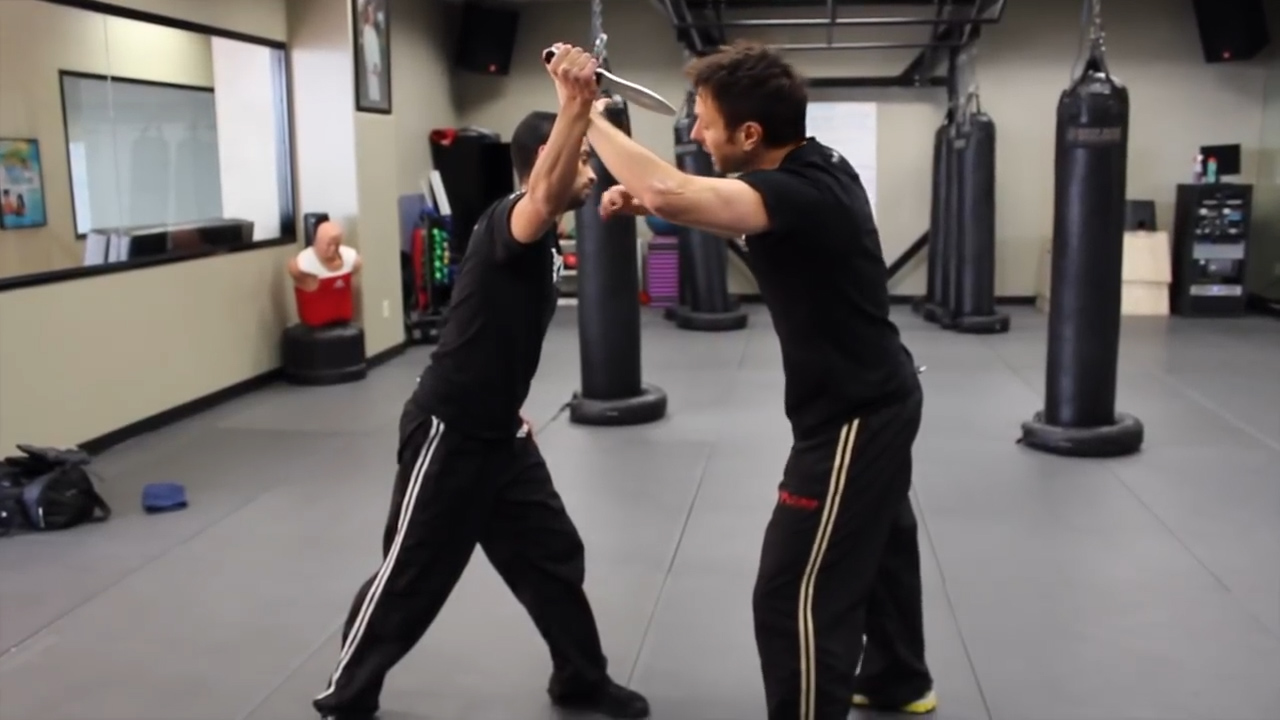knife: (537, 38, 683, 120)
